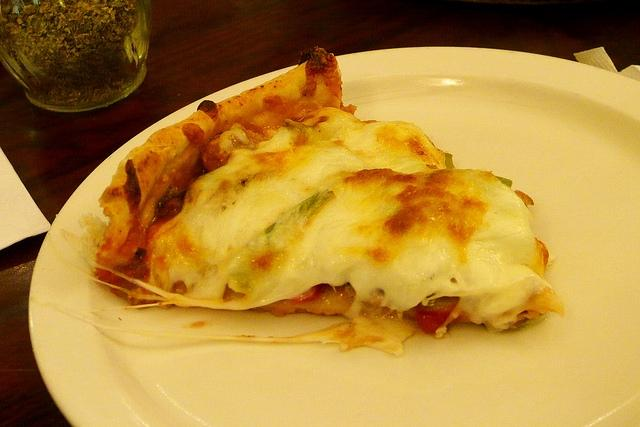tomato: (94, 255, 146, 293), (415, 303, 455, 334), (144, 214, 176, 245), (289, 284, 320, 303), (262, 95, 288, 114)
